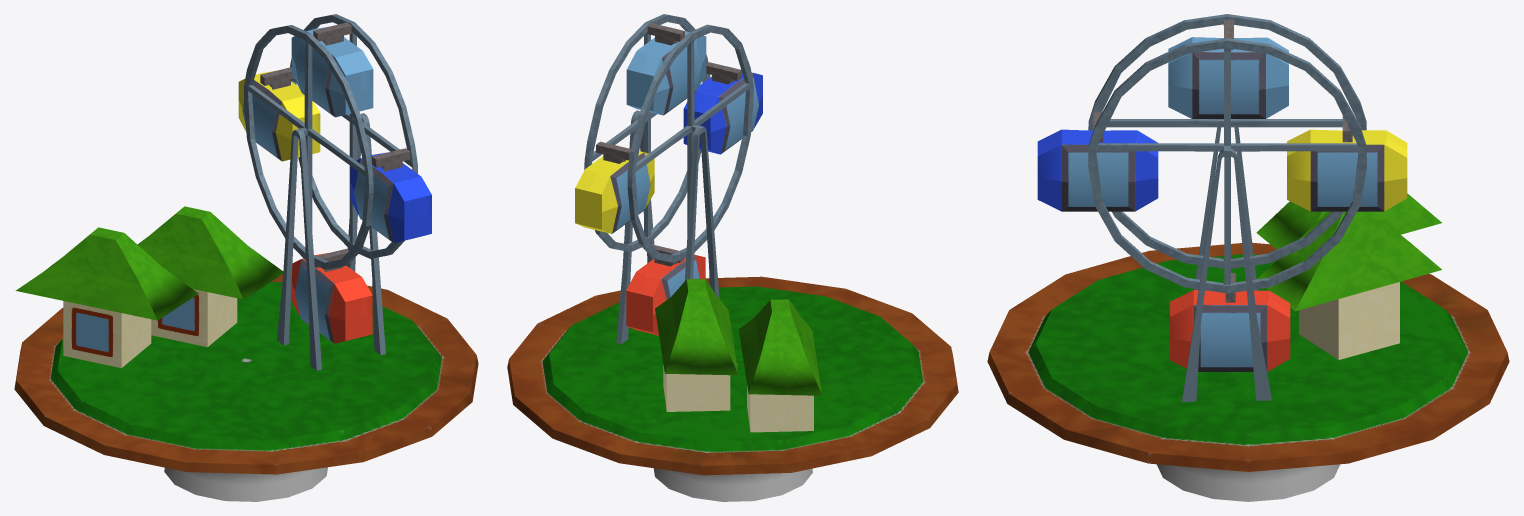
The model's file is yuuentistage.fbx.
The picture shows the model from 3 angles, left to right: view 1: azimuth 30°, elevation 25°; view 2: azimuth 150°, elevation 25°; view 3: azimuth 270°, elevation 25°; orthographic projection. The views are drawn at different scales.
Parts seen in each view (by area): view 1: polySurface8; view 2: polySurface8; view 3: polySurface8.
Boxes of the visible parts, <box> form: polySurface8: <box>14,14,478,501</box>; polySurface8: <box>507,14,958,501</box>; polySurface8: <box>987,14,1509,501</box>.
Bounding box in the file's own units: 3.98 × 4 × 3.98.
1 material, 1 textured.
